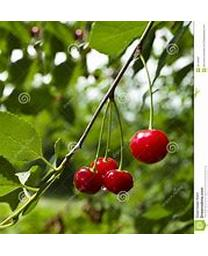cherry: (129, 129, 170, 164), (73, 166, 102, 194), (104, 169, 134, 193), (94, 157, 118, 180)
